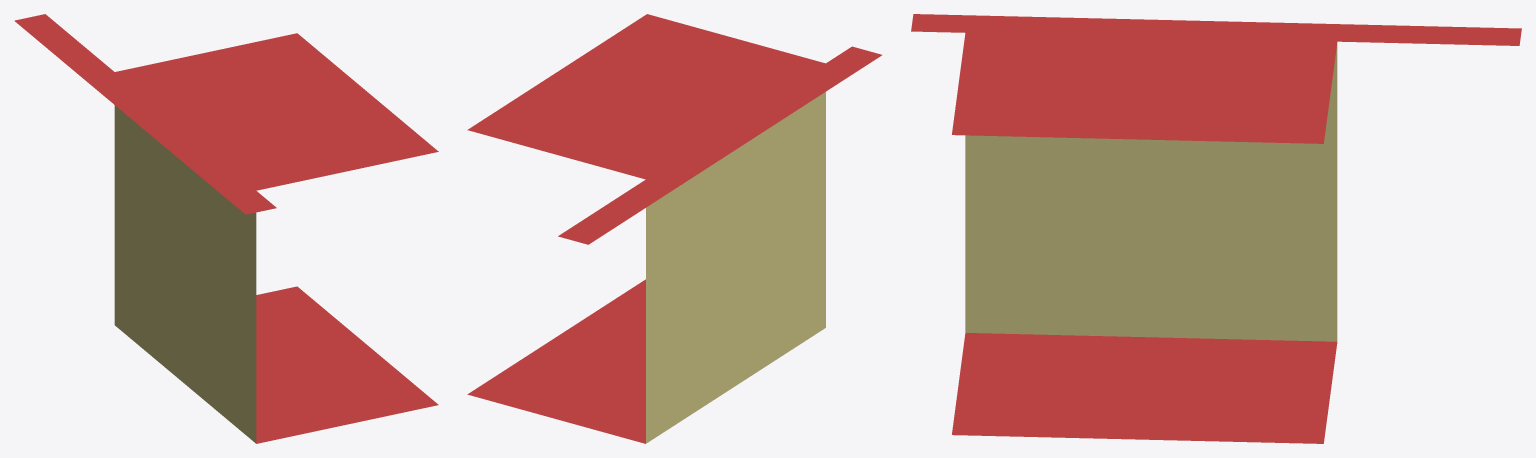
The picture shows the model from 3 angles, left to right: view 1: azimuth 30°, elevation 25°; view 2: azimuth 150°, elevation 25°; view 3: azimuth 270°, elevation 25°; orthographic projection. The views are drawn at different scales.
Bounding box in the file's own units: 5.55 × 11.02 × 5.97.
